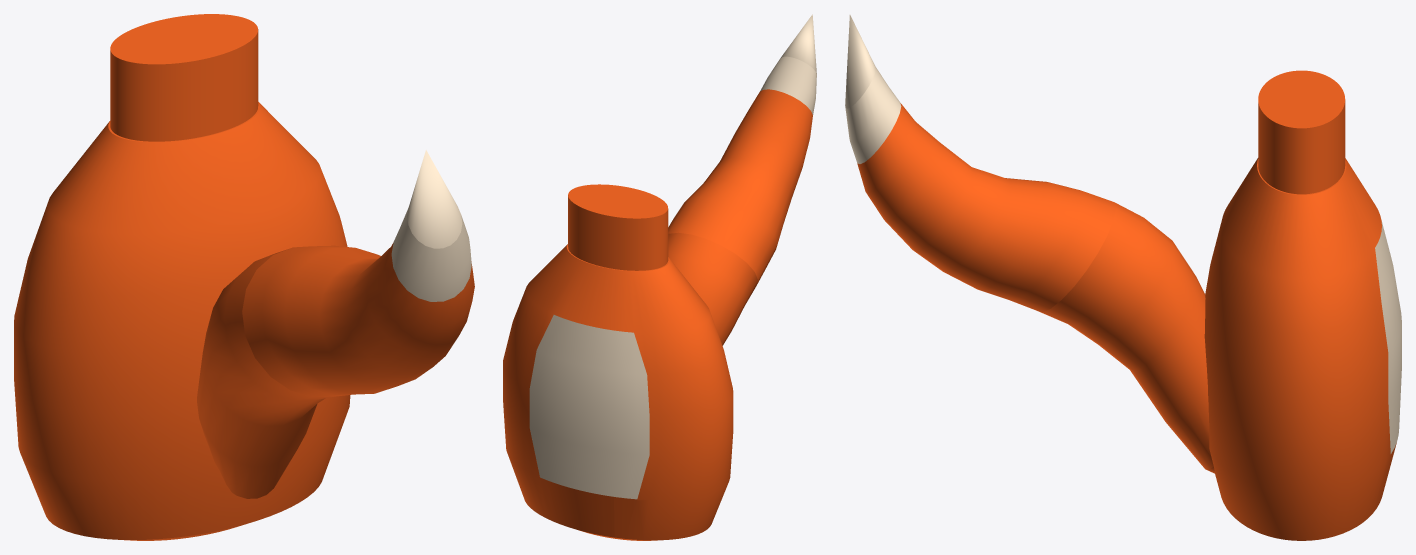
File: body.obj
The picture shows the model from 3 angles, left to right: view 1: azimuth 30°, elevation 25°; view 2: azimuth 150°, elevation 25°; view 3: azimuth 270°, elevation 25°; orthographic projection. The views are drawn at different scales.
Visible parts, largest first — view 1: pCylinder39 polySurface43, pSphere15, pCylinder3, pSphere14; view 2: pCylinder39 polySurface43, pSphere15, polySurface42 pCylinder39, pCylinder3, pSphere14; view 3: pCylinder39 polySurface43, pSphere15, pCylinder3, pSphere14, polySurface42 pCylinder39.
Part boxes in pixels (box(x1,y1,x2,y2)): pCylinder39 polySurface43: box(14, 102, 350, 540); pSphere15: box(197, 242, 474, 498); pCylinder3: box(110, 14, 258, 141); pSphere14: box(391, 150, 471, 301); pCylinder39 polySurface43: box(503, 244, 733, 540); pSphere15: box(668, 89, 812, 345); polySurface42 pCylinder39: box(529, 315, 649, 499); pCylinder3: box(568, 184, 668, 270); pSphere14: box(760, 14, 816, 114); pCylinder39 polySurface43: box(1204, 158, 1396, 540); pSphere15: box(857, 103, 1214, 473); pCylinder3: box(1258, 70, 1345, 194); pSphere14: box(845, 15, 901, 163); polySurface42 pCylinder39: box(1375, 221, 1401, 453).
Bounding box in the file's own units: 2.69 × 4.57 × 4.75.
